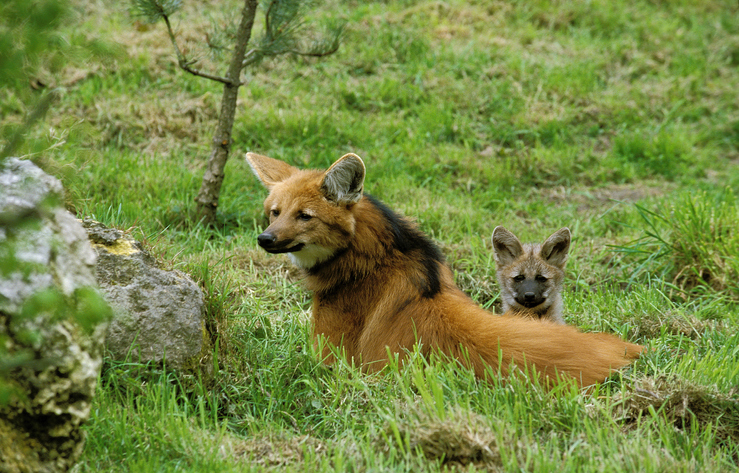LoboGuara: (235, 140, 666, 381), (478, 219, 580, 316)
